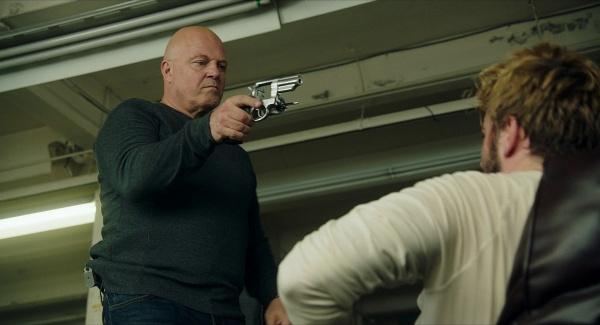Gun: (243, 75, 304, 123)
